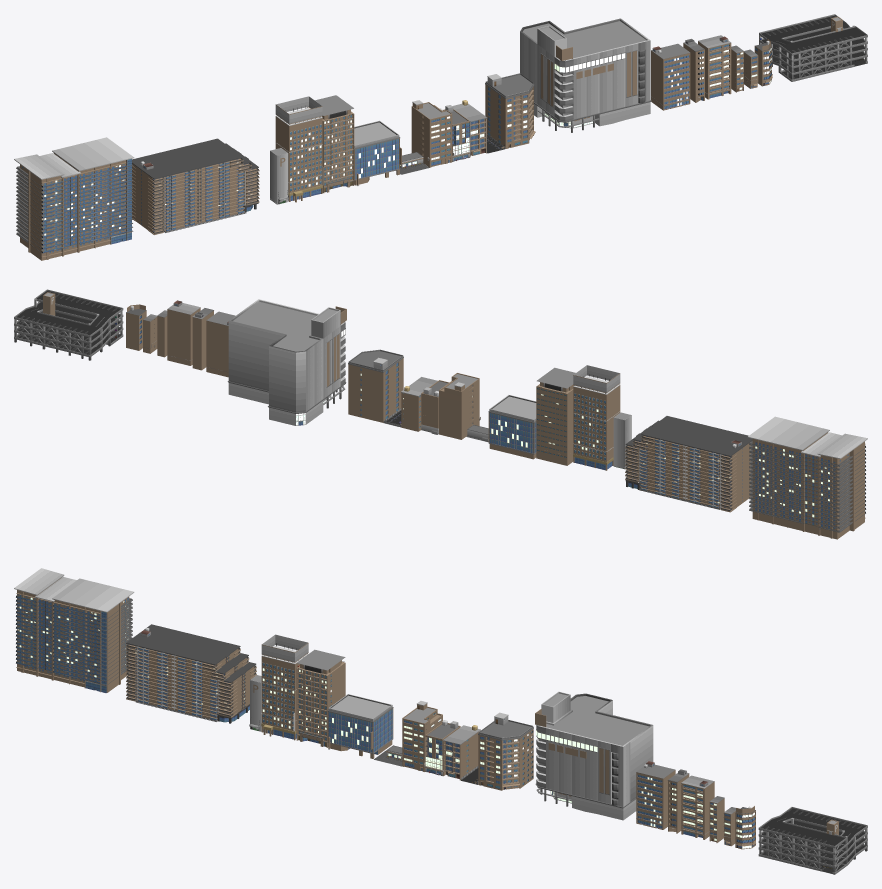
Rendered from Building.fbx.
The picture shows the model from 3 angles, top to bottom: view 1: azimuth 30°, elevation 25°; view 2: azimuth 150°, elevation 25°; view 3: azimuth 330°, elevation 25°; orthographic projection.
Parts seen in each view (by area): view 1: Bilding.007, Bilding.019, Bilding.018, Bilding.006, Bilding.016, Bilding.001, Bilding.015, Bilding.008, Bilding.013, Bilding.004, Bilding.012, Bilding.017 (+6 smaller); view 2: Bilding.007, Bilding.019, Bilding.018, Bilding.006, Bilding.016, Bilding.001, Bilding.015, Bilding.008, Bilding.004, Bilding.012, Bilding.013, Bilding.003 (+5 smaller); view 3: Bilding.019, Bilding.007, Bilding.018, Bilding.006, Bilding.016, Bilding.001, Bilding.015, Bilding.008, Bilding.013, Bilding.004, Bilding.012, Bilding.003 (+5 smaller).
Part boxes in pixels (x1,y1,x2,y2): Bilding.007: [520, 18, 651, 132]; Bilding.019: [14, 137, 134, 260]; Bilding.018: [132, 138, 259, 234]; Bilding.006: [759, 14, 867, 81]; Bilding.016: [275, 96, 323, 202]; Bilding.001: [485, 73, 535, 148]; Bilding.015: [307, 95, 354, 193]; Bilding.008: [354, 120, 401, 185]; Bilding.013: [651, 43, 690, 110]; Bilding.004: [411, 100, 452, 167]; Bilding.012: [698, 35, 731, 99]; Bilding.017: [270, 148, 288, 204]; Bilding.007: [227, 299, 346, 425]; Bilding.019: [747, 416, 867, 539]; Bilding.018: [625, 416, 752, 512]; Bilding.006: [14, 289, 123, 360]; Bilding.016: [573, 365, 620, 470]; Bilding.001: [348, 349, 403, 422]; Bilding.015: [536, 367, 575, 465]; Bilding.008: [488, 395, 536, 459]; Bilding.004: [439, 373, 479, 439]; Bilding.012: [167, 300, 200, 365]; Bilding.013: [206, 311, 235, 377]; Bilding.003: [401, 377, 437, 431]; Bilding.019: [14, 568, 134, 692]; Bilding.007: [535, 691, 653, 820]; Bilding.018: [126, 624, 256, 723]; Bilding.006: [758, 807, 867, 874]; Bilding.016: [261, 634, 308, 740]; Bilding.001: [478, 712, 533, 790]; Bilding.015: [296, 649, 345, 747]; Bilding.008: [327, 694, 393, 758]; Bilding.013: [636, 761, 675, 829]; Bilding.004: [402, 701, 442, 771]; Bilding.012: [681, 775, 714, 839]; Bilding.003: [443, 725, 480, 780].
Bounding box in the file's own units: 47155 × 4937 × 4829.
